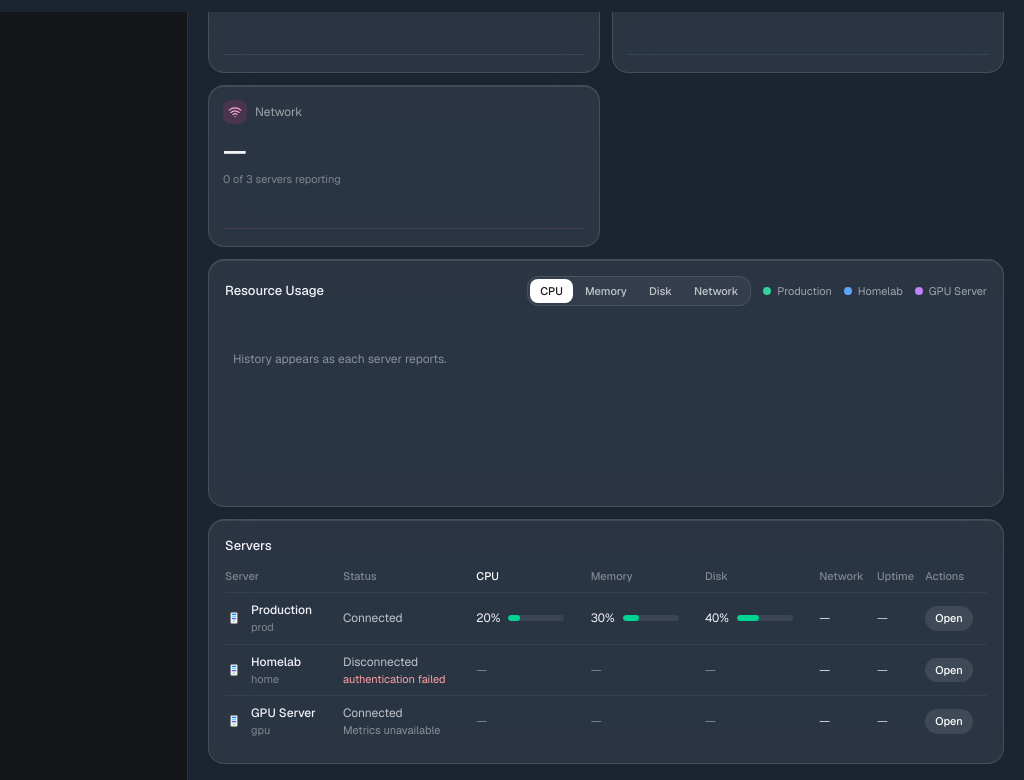
Test: system monitor › opens one server without removing the others from the desktop
The image size is (1024, 780).
Click the button with aria-label "Open Production". click: {"x": 949, "y": 618}
box: [925, 606, 973, 630]
(page scrolled)
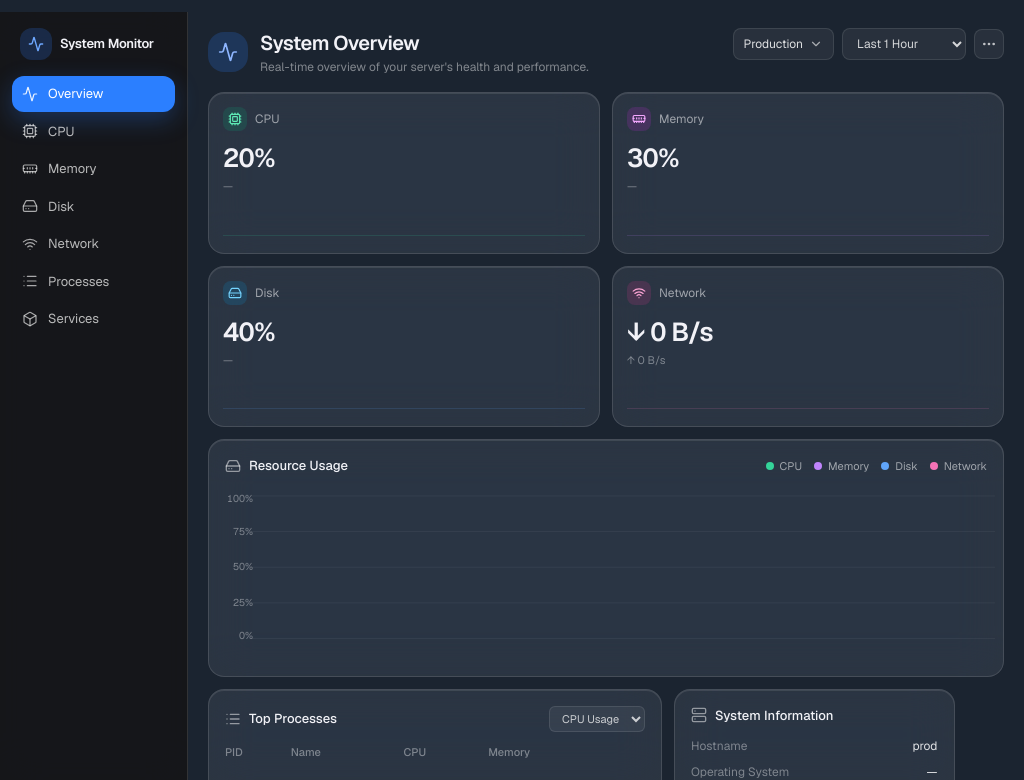
expect the text "Top Processes" is shown: met, box [225, 709, 337, 728]
expect the button "Production" is shown: met, box [733, 28, 834, 60]
expect the text "Homelab" is gone: met
